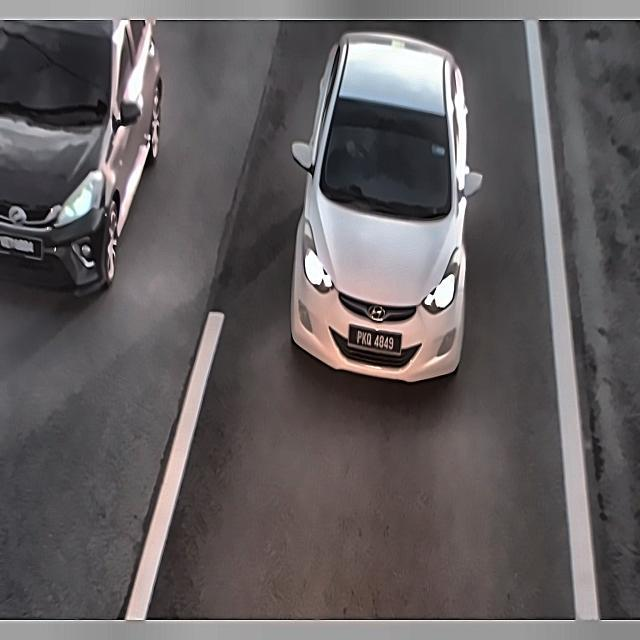car: (345, 318, 406, 359), (0, 227, 45, 266)
